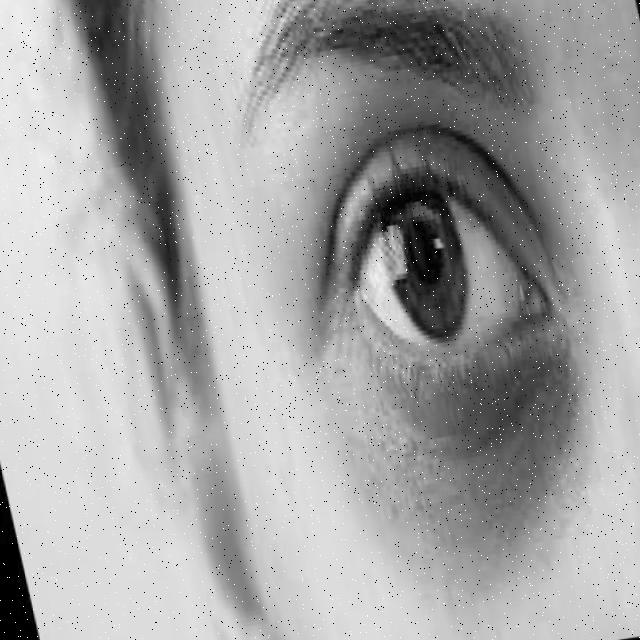puffy_eyes: (314, 326, 573, 562)
